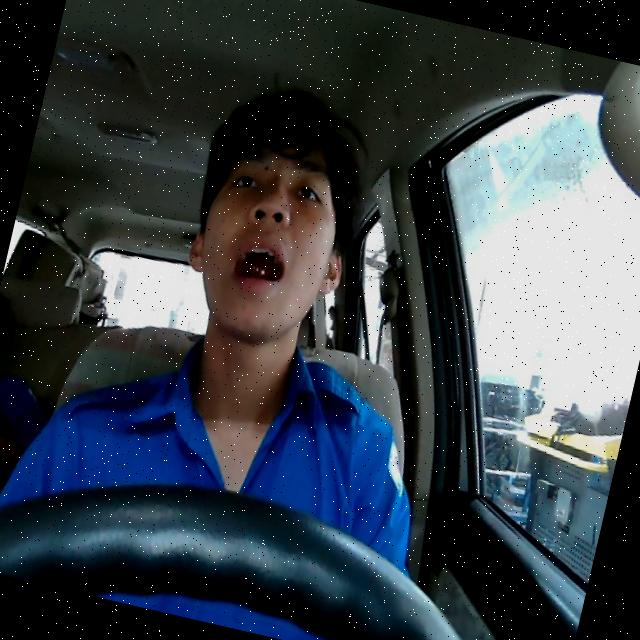yarning: (170, 124, 367, 356)
